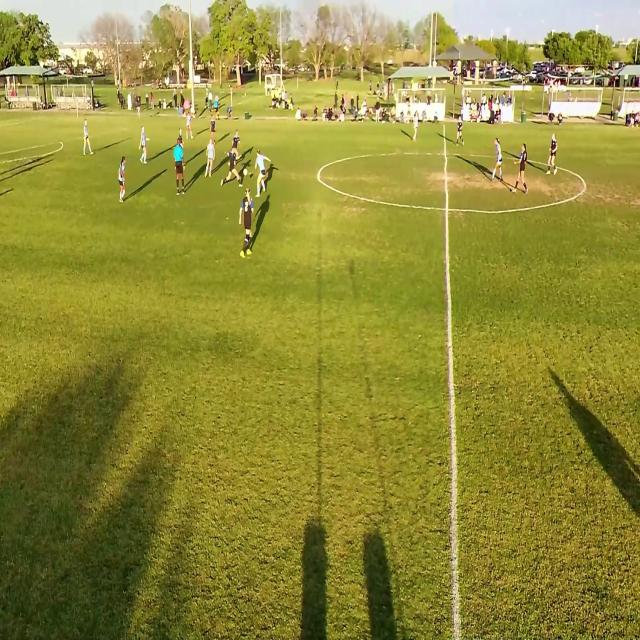ball: (242, 166, 250, 178)
team1: (238, 192, 258, 259), (514, 143, 529, 195), (224, 142, 240, 188), (548, 130, 558, 172), (455, 113, 463, 146), (210, 115, 218, 139), (232, 129, 240, 150), (178, 130, 184, 146)
team2: (256, 150, 271, 199), (206, 137, 216, 181), (496, 137, 506, 181), (119, 156, 128, 202), (84, 119, 94, 155), (140, 125, 148, 162), (413, 107, 421, 144), (187, 109, 194, 141)
